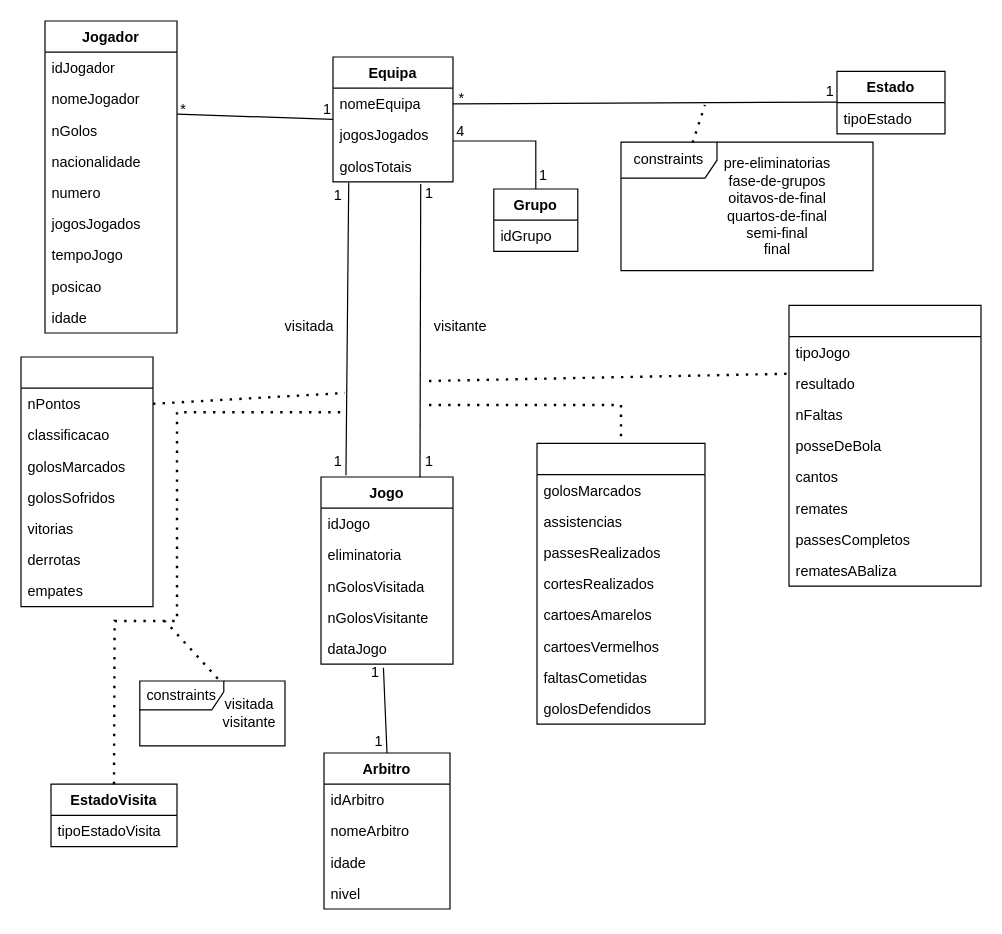
The diagram is 1002 pixels wide and 934 high, and some of its shapes have lost their labels. Here are the shapes that lost their labels. From the top down, the box of each, then its label:
(788, 304, 981, 586): EstatisticasDeJogo
(20, 356, 153, 607): EstatisticasEquipa
(536, 442, 705, 724): EstatisticasJogador
